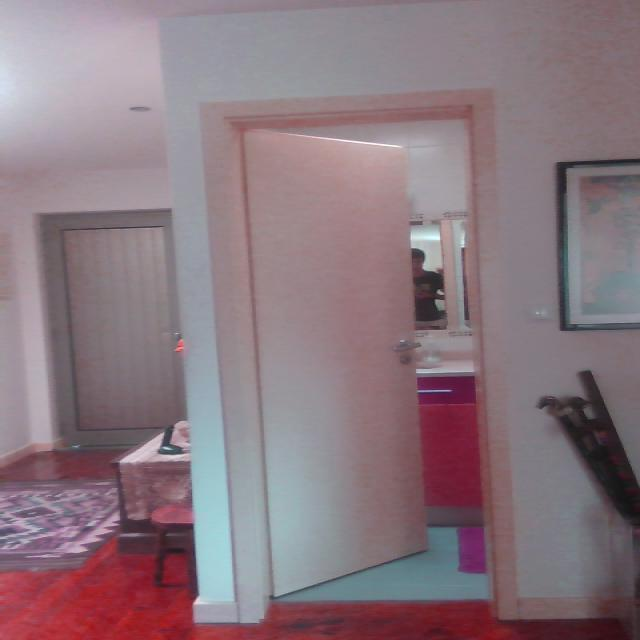door: (194, 74, 537, 640)
